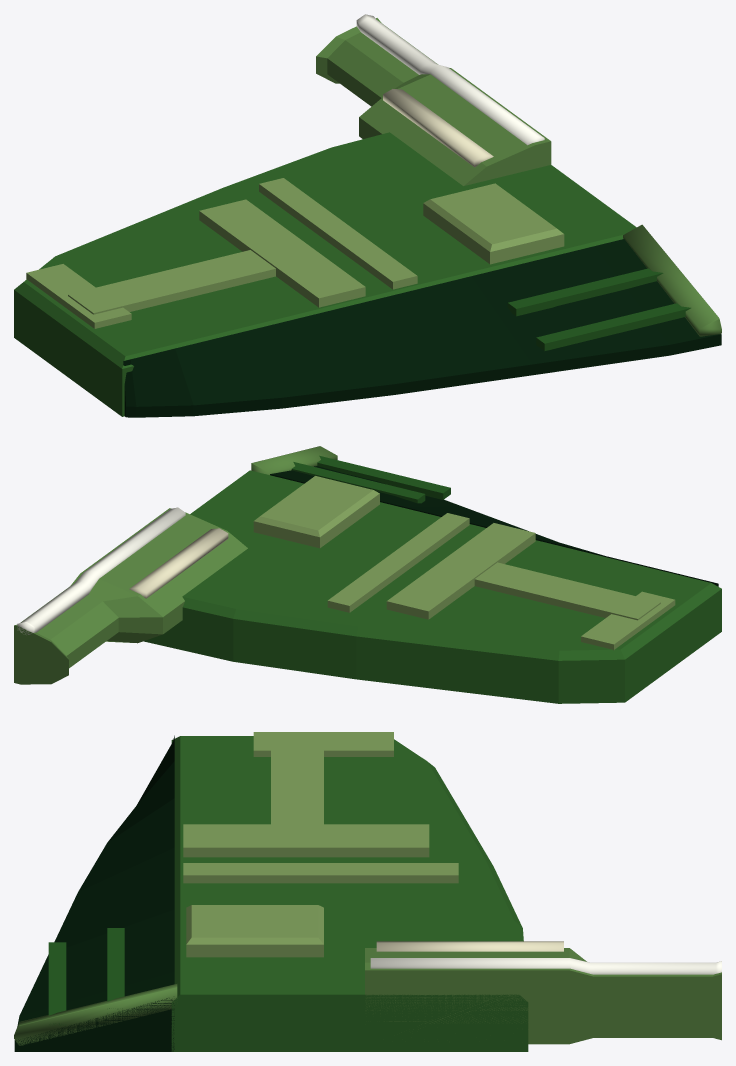
The model's file is newshj-51.glb.
3 renders of one model, top to bottom at view 1: azimuth 30°, elevation 25°; view 2: azimuth 150°, elevation 25°; view 3: azimuth 270°, elevation 25°, orthographic. The views are drawn at different scales.
Visible parts, largest first — view 1: newshj-51; view 2: newshj-51; view 3: newshj-51.
Part boxes in pixels (bbox=[...]): newshj-51: bbox=[14, 14, 721, 417]; newshj-51: bbox=[14, 446, 721, 703]; newshj-51: bbox=[14, 732, 721, 1051].
Bounding box in the file's own units: 1.77 × 0.275 × 2.02.
